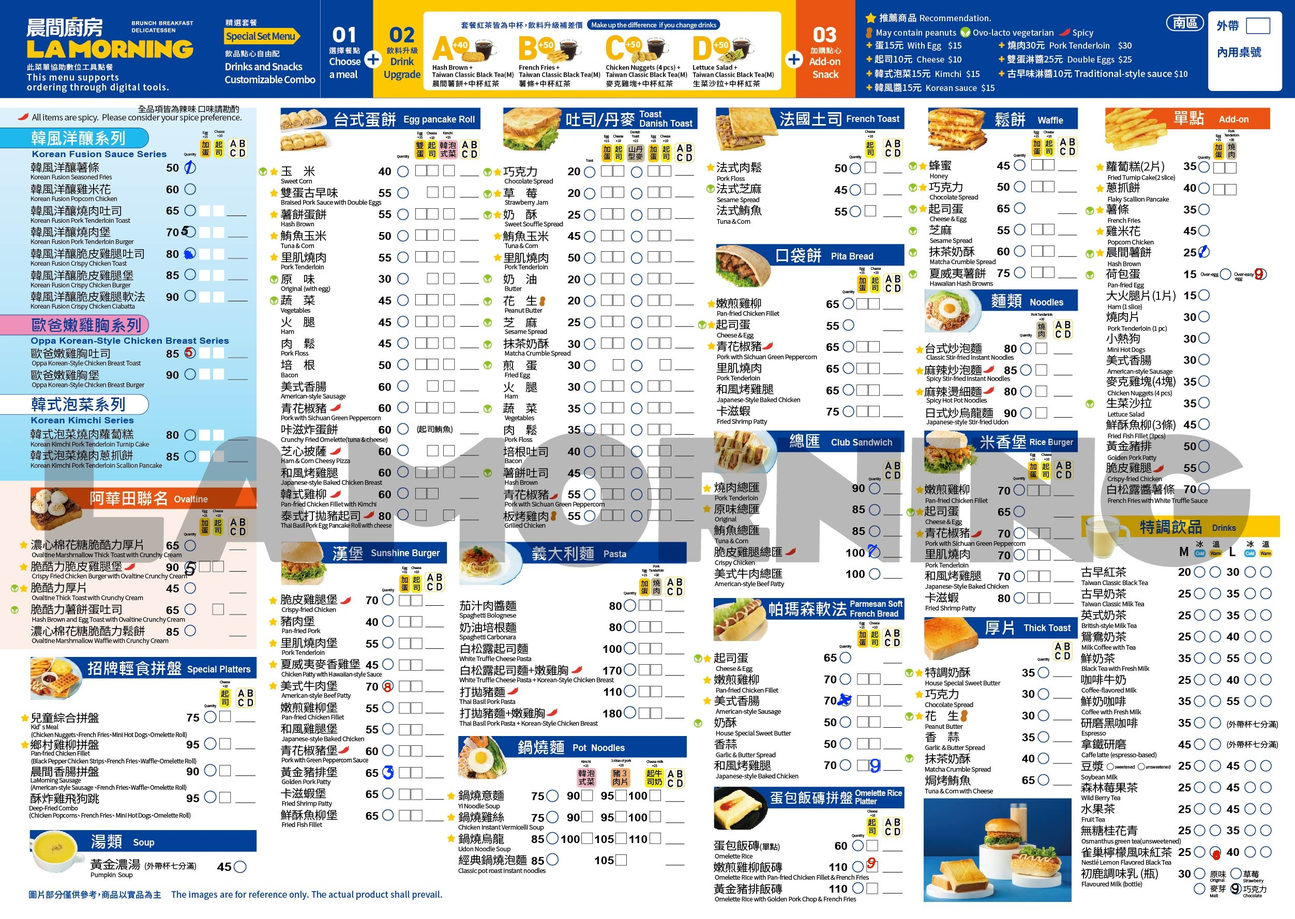marked_circle: (183, 248, 196, 258)
marked_number_1: (183, 163, 196, 174)
marked_number_3: (382, 766, 395, 777)
marked_number_5: (182, 226, 195, 237), (182, 563, 195, 574), (182, 347, 195, 358)
marked_number_6: (1209, 846, 1220, 857)
marked_number_7: (868, 547, 881, 558)
marked_number_8: (382, 681, 395, 692)
marked_number_9: (1230, 884, 1242, 896), (1253, 269, 1266, 280), (866, 860, 879, 871), (869, 759, 882, 770)
marked_tick: (1197, 246, 1210, 257)
marked_x: (839, 695, 852, 706)
